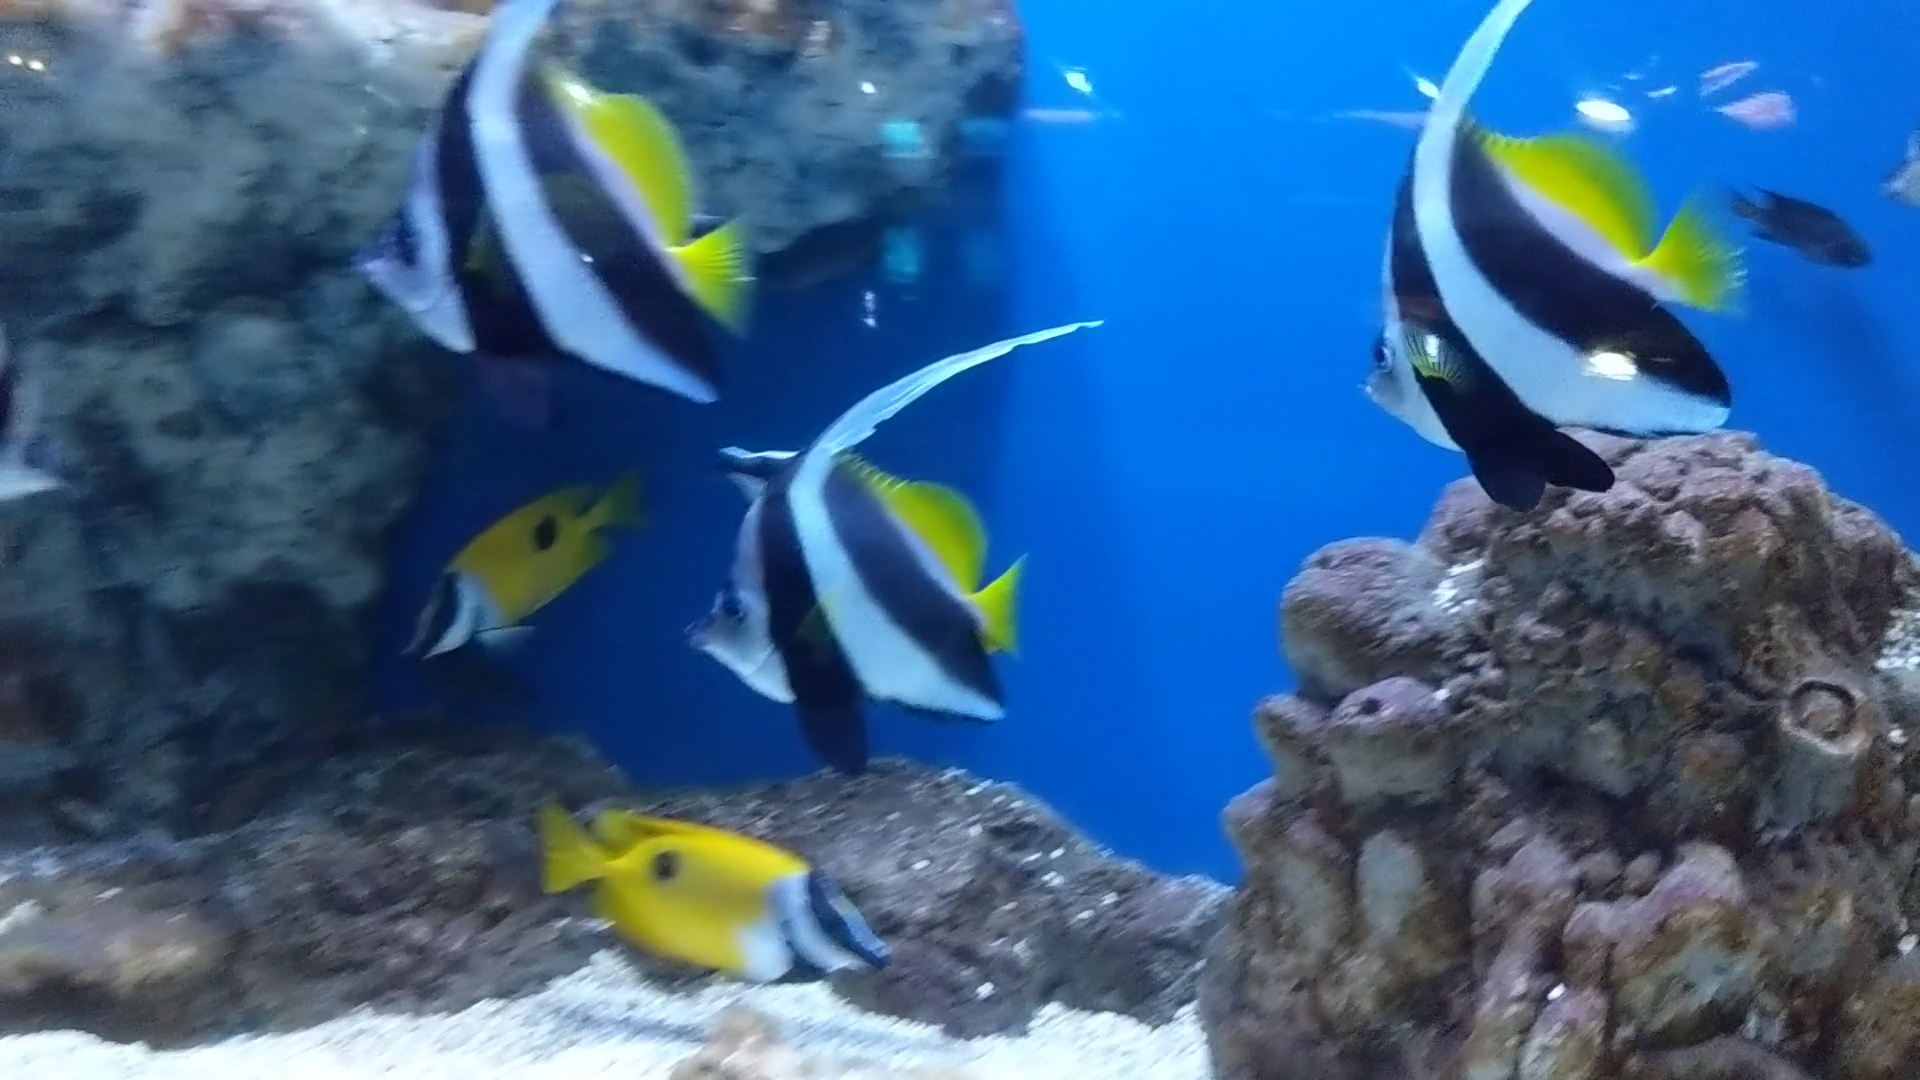moorfish: (1335, 18, 1737, 514), (692, 309, 1125, 735), (378, 0, 738, 417)
rabbitfish: (522, 777, 893, 1021), (386, 456, 649, 680)
